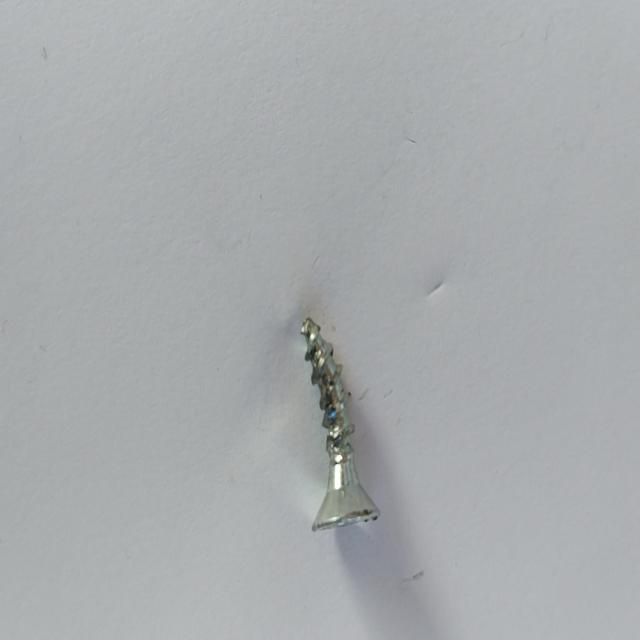Screw: (301, 317, 380, 531)
